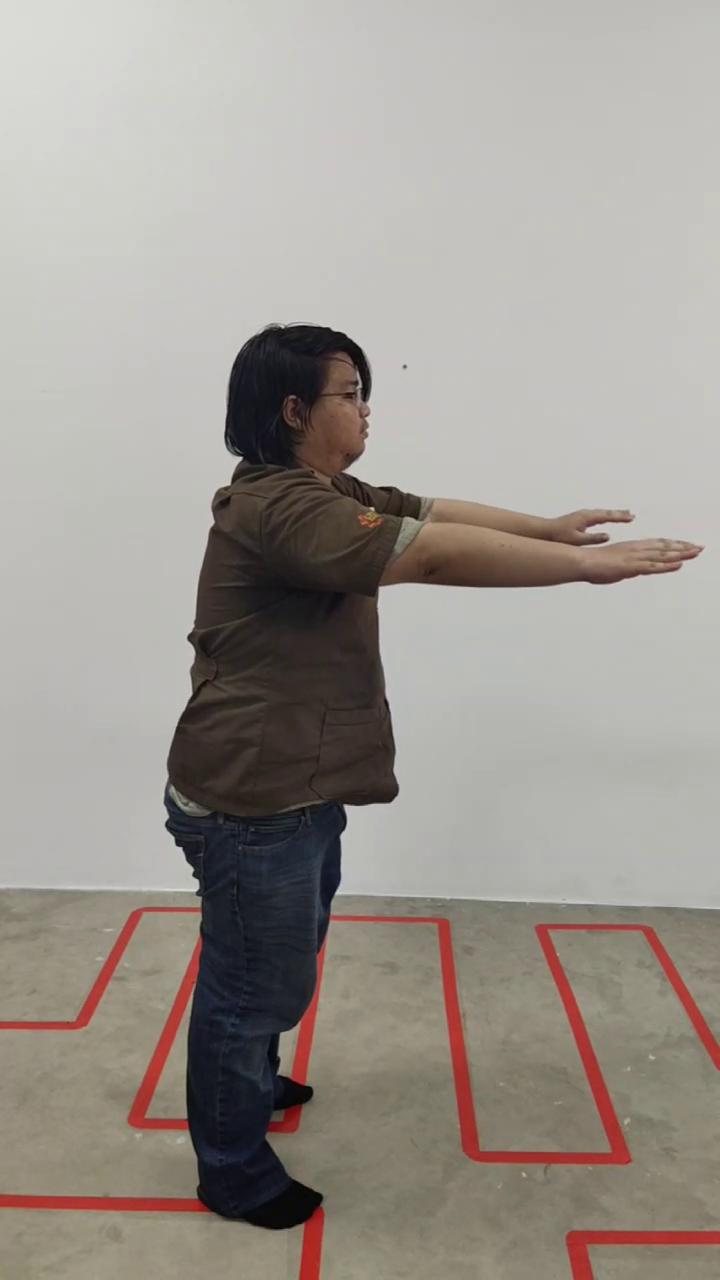squat up: (163, 324, 700, 1232)
